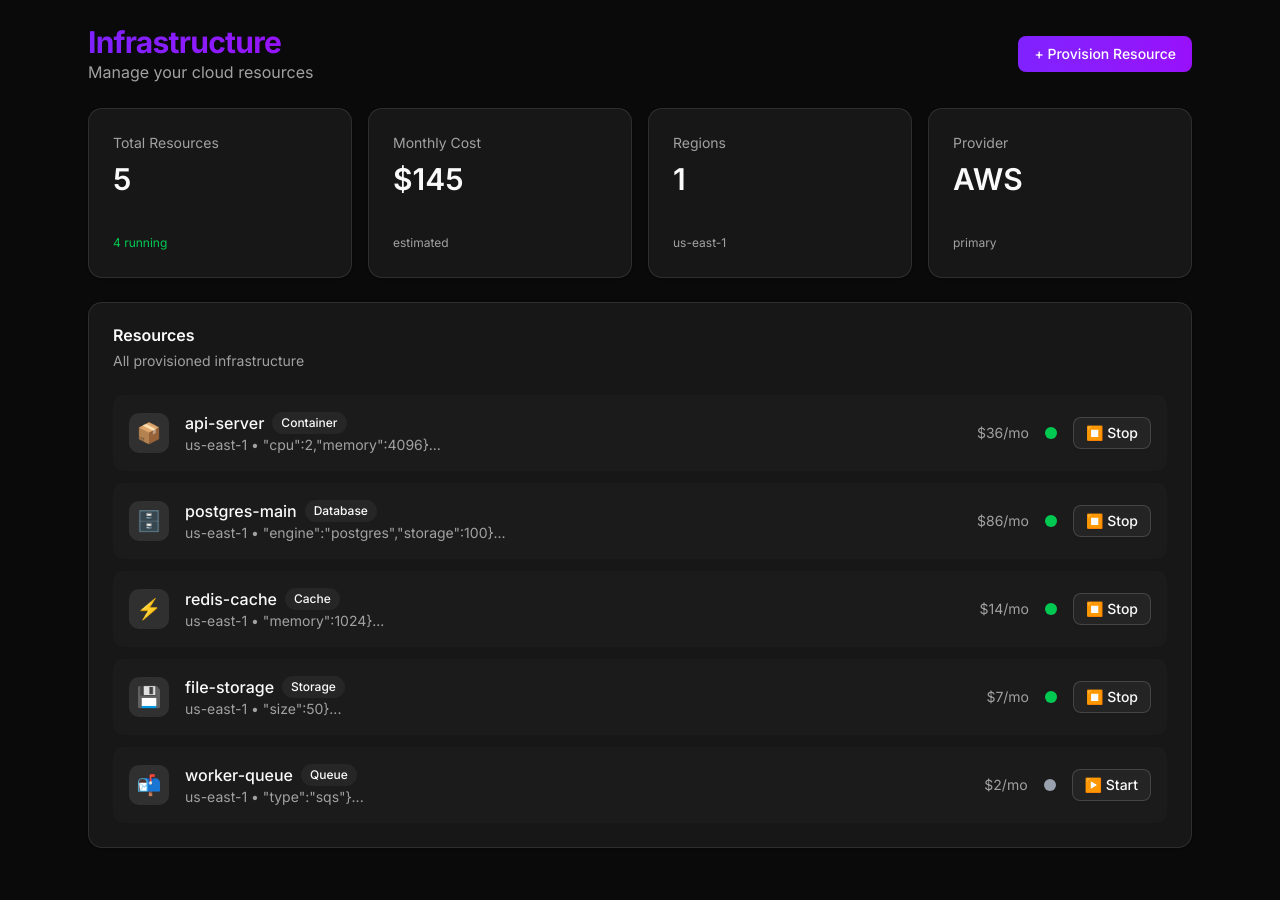
InfrastructurePage › opens provision modal
Click the button "+ Provision Resource". click: (1105, 54)
box: 1018,36 -> 1192,72
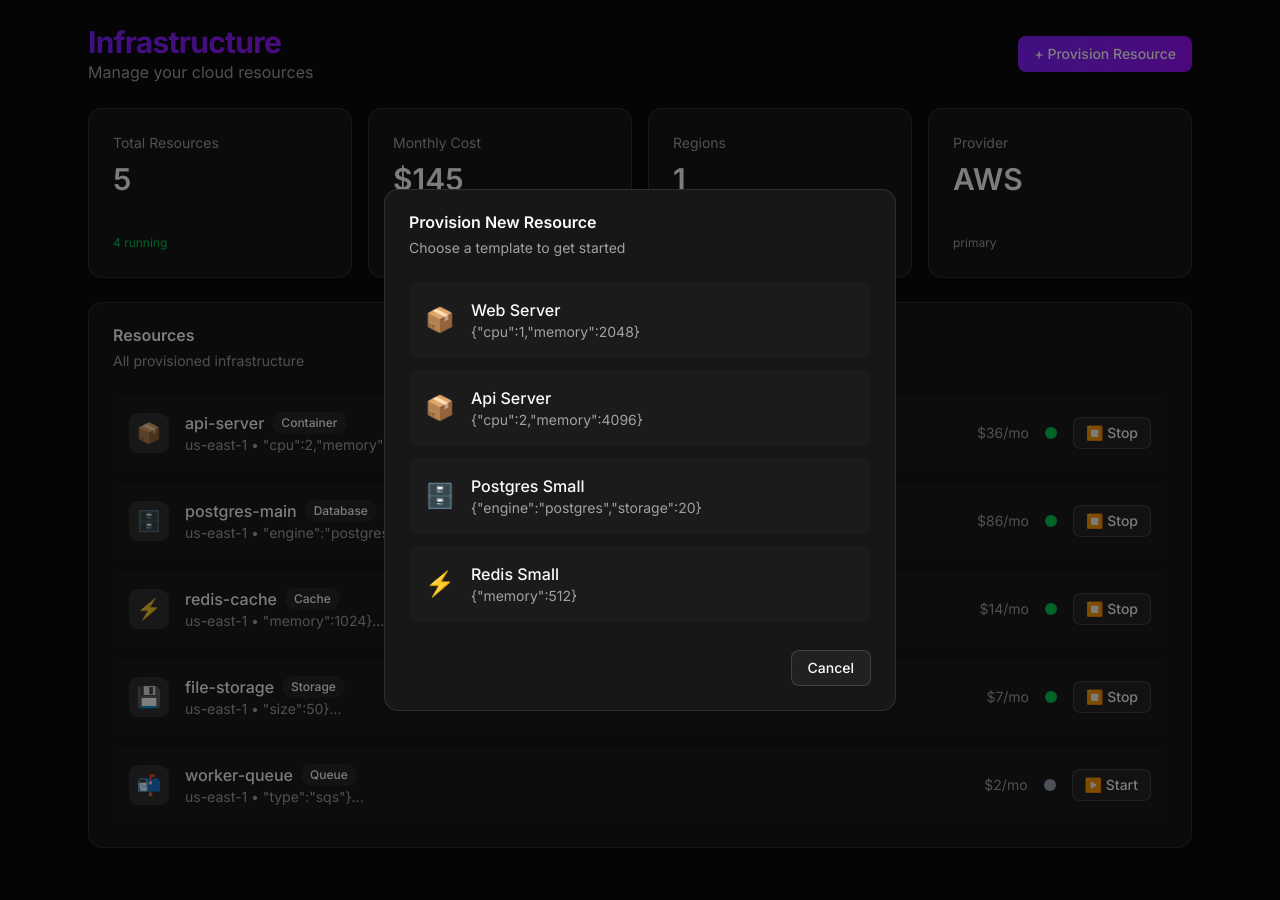
Expected: the text "Provision New Resource" is shown, 409,212 -> 596,232
